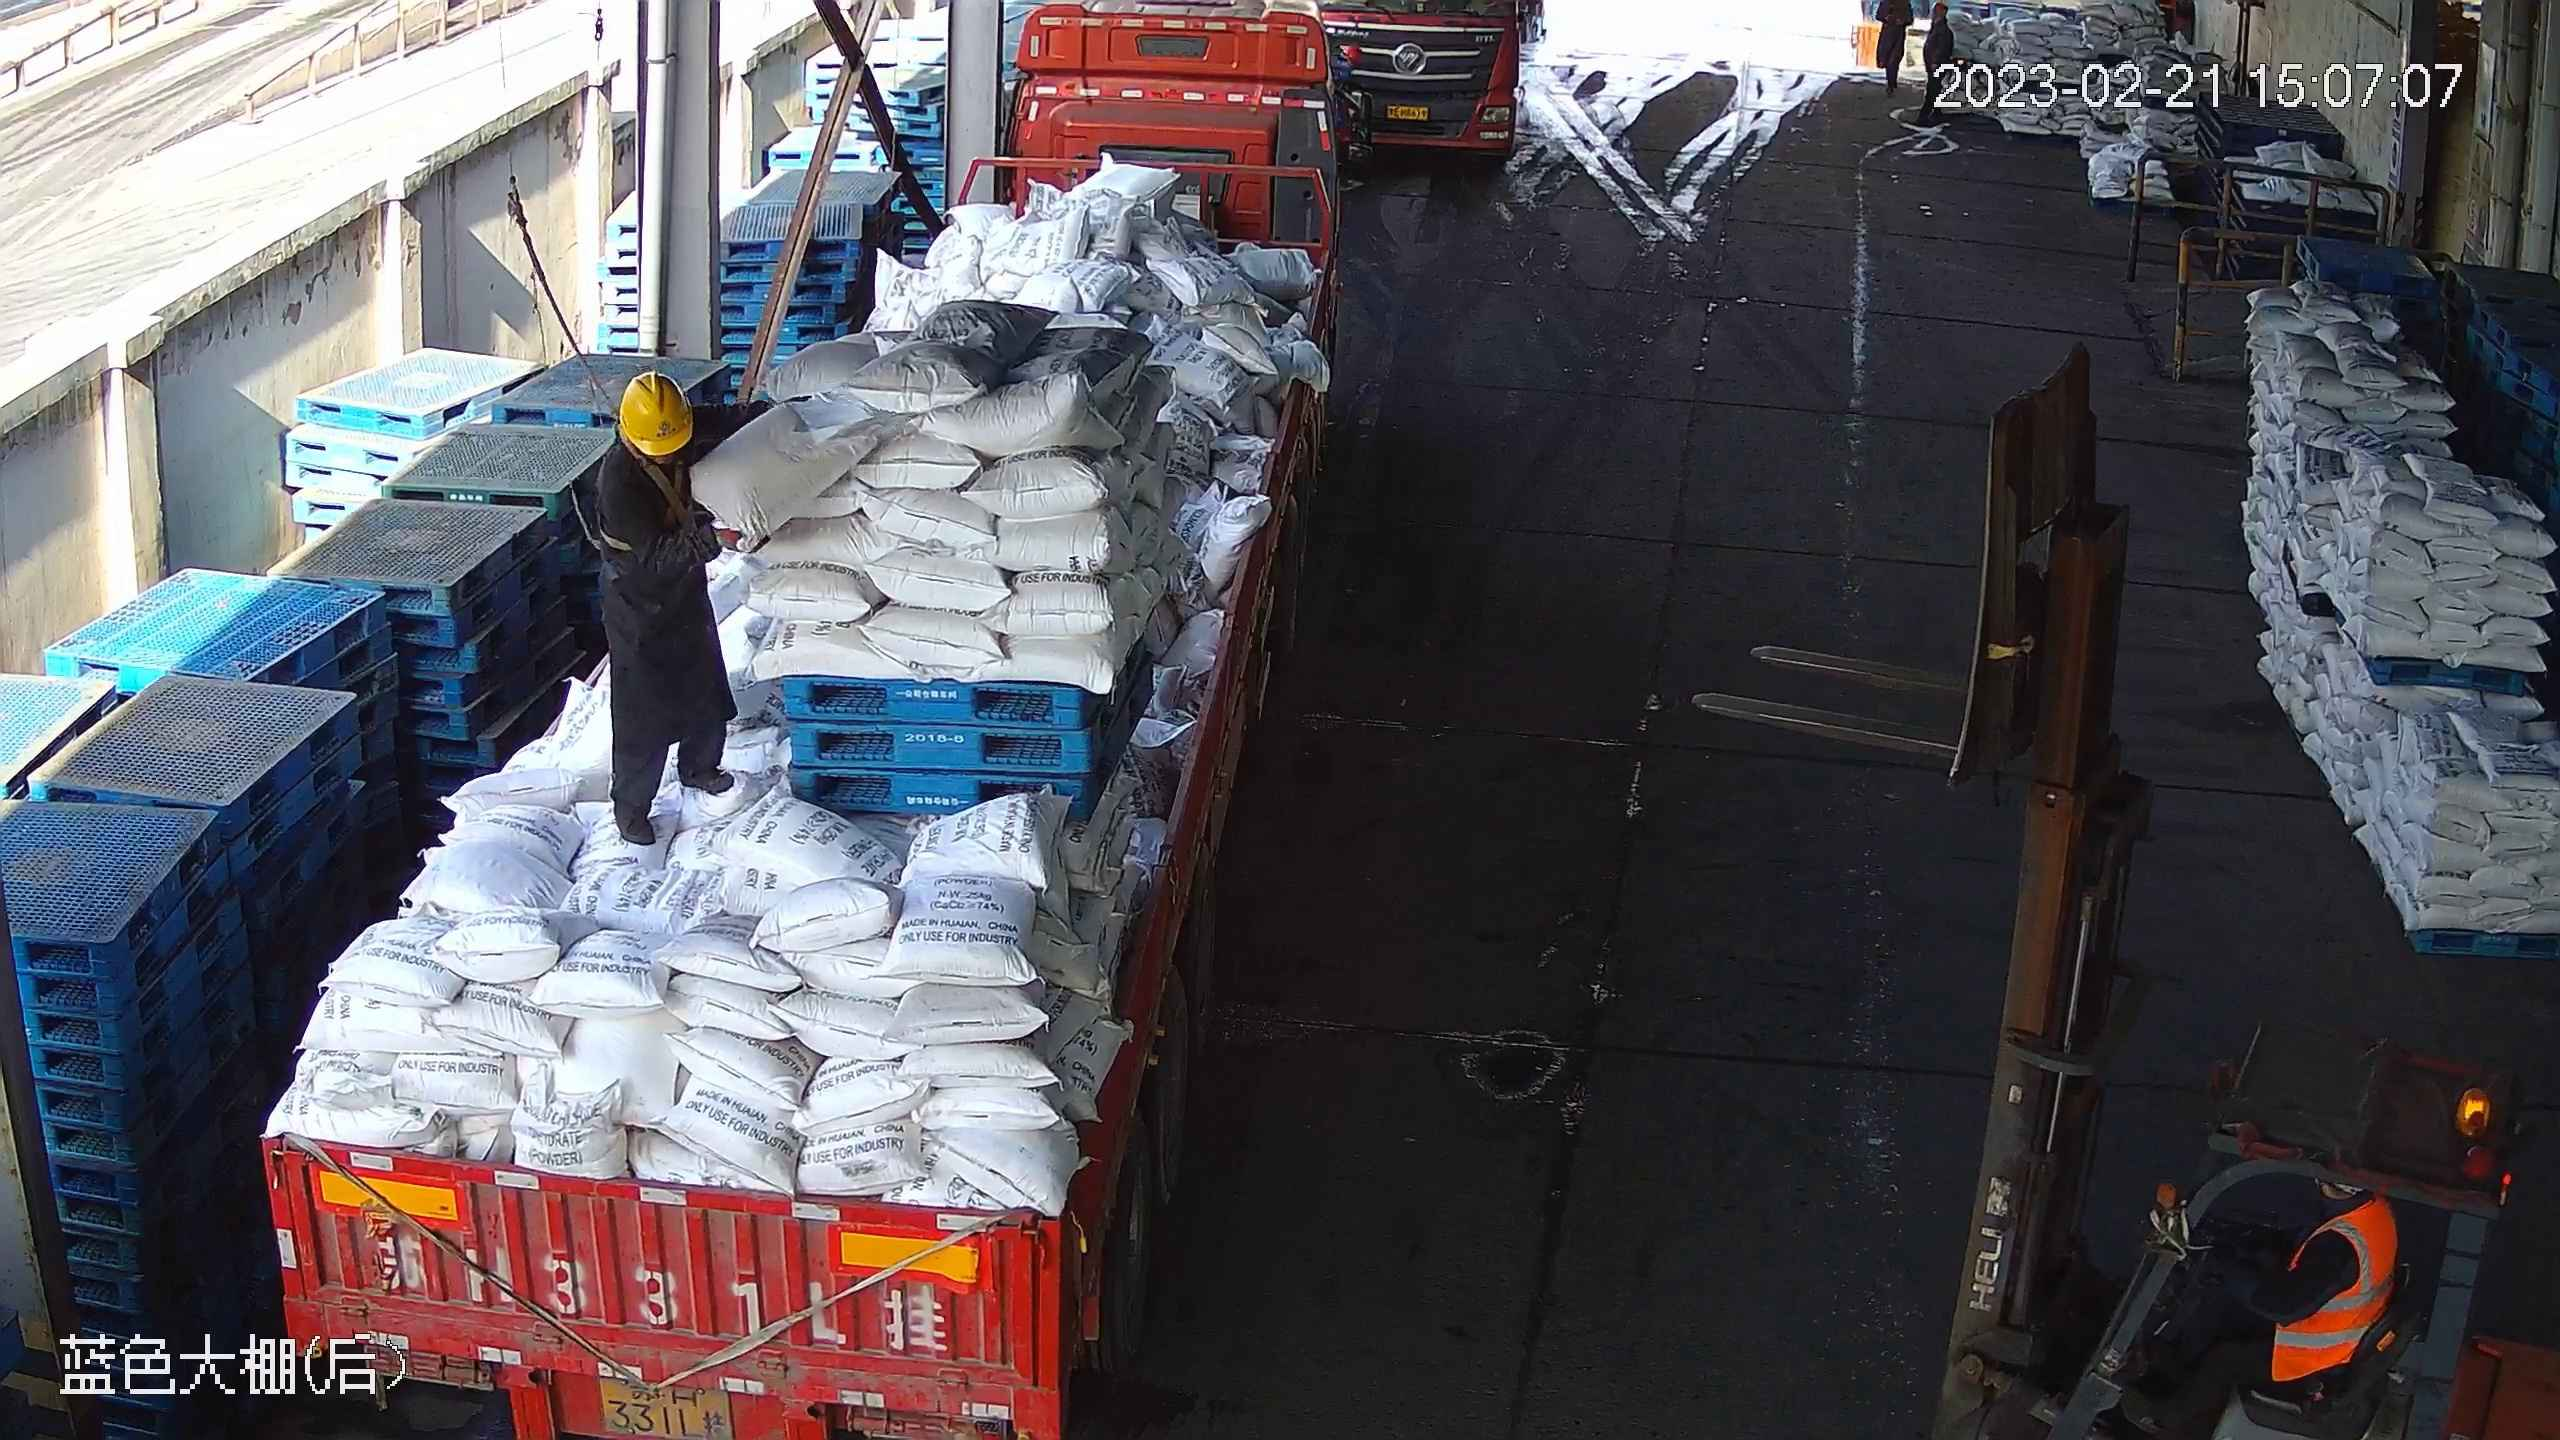belt: (599, 442, 697, 551)
head: (593, 368, 695, 510)
helmet: (616, 370, 695, 458)
people: (595, 369, 783, 850), (2121, 1179, 2400, 1440)
truck: (254, 6, 1370, 1440), (1321, 1, 1521, 161)
